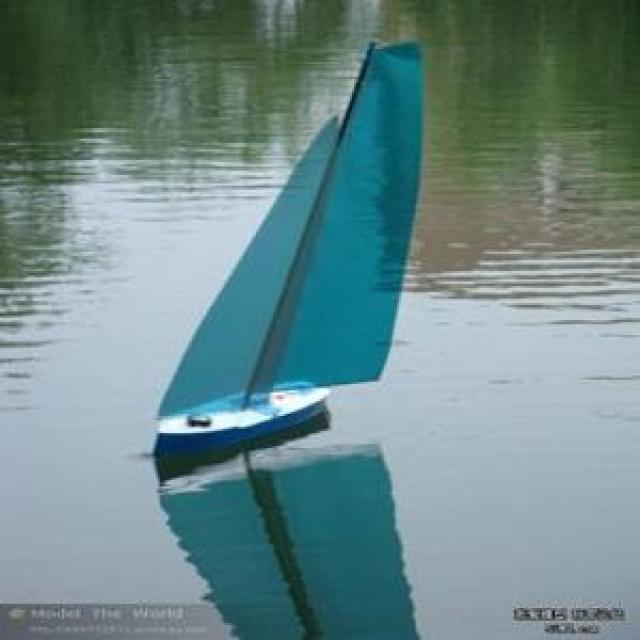sailboat: (152, 28, 428, 464)
